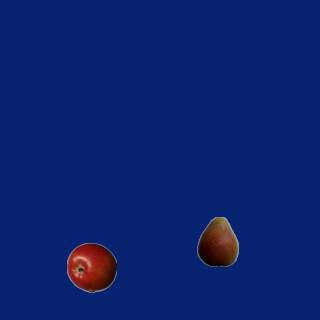Apple Braeburn: (66, 242, 116, 292)
Pear Forelle: (192, 216, 242, 266)
